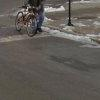Bicycle: (12, 1, 40, 38)
